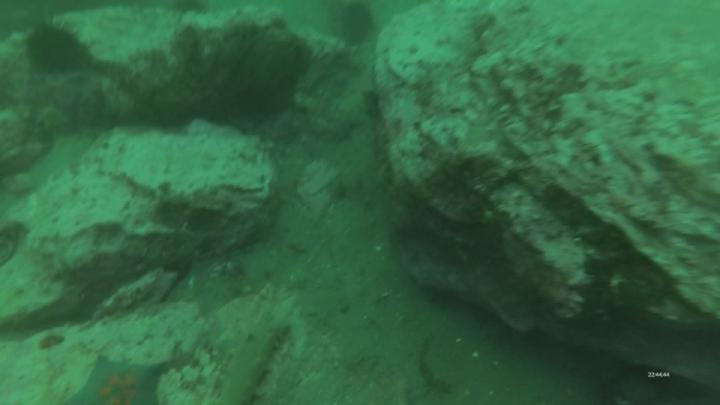echinus: (23, 13, 92, 83), (338, 1, 378, 51)
holothurian: (217, 316, 298, 405)
starfish: (59, 350, 171, 405)
